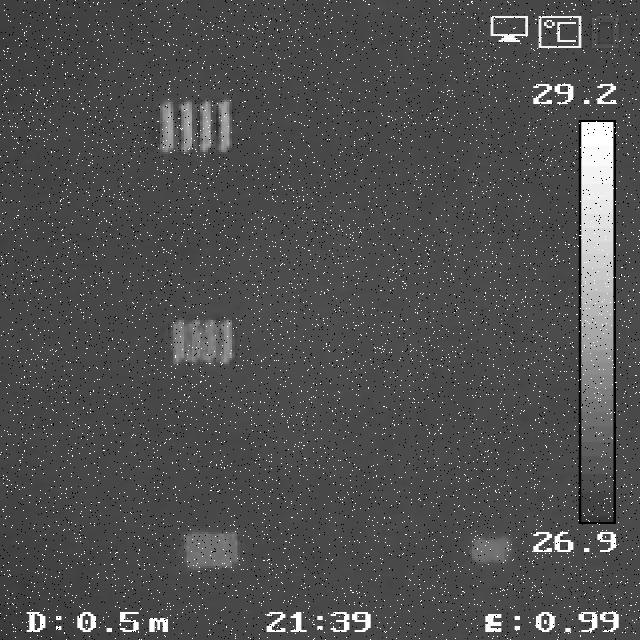Distinguishable 4-bar target: (156, 97, 236, 153)
Indistinguishable 4-bar target: (181, 532, 243, 570), (475, 537, 513, 566)
threshold 4-bar target: (174, 321, 238, 364)
